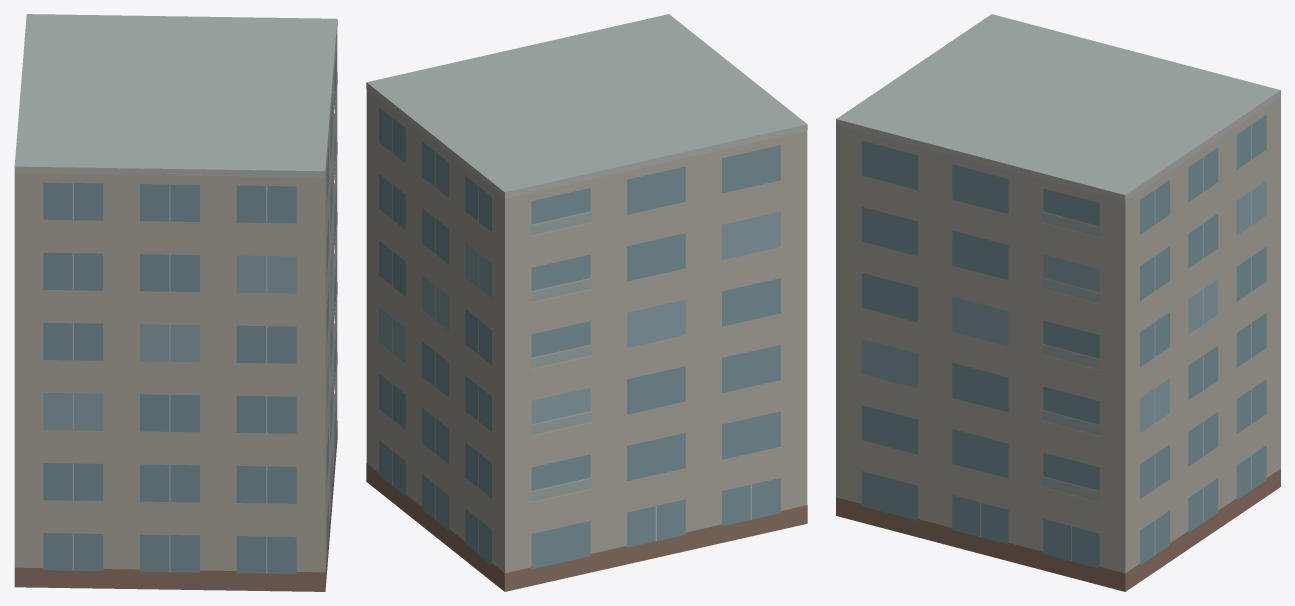
The model's file is survey-upis-32784387.glb.
3 renders of one model, left to right at view 1: azimuth 30°, elevation 25°; view 2: azimuth 150°, elevation 25°; view 3: azimuth 270°, elevation 25°, orthographic. The views are drawn at different scales.
Visible parts, largest first — view 1: survey-upis-32784387.tmp; view 2: survey-upis-32784387.tmp; view 3: survey-upis-32784387.tmp.
Part boxes in pixels (x1,y1,x2,y2): survey-upis-32784387.tmp: [14, 14, 337, 591]; survey-upis-32784387.tmp: [366, 14, 807, 591]; survey-upis-32784387.tmp: [836, 14, 1280, 591].
Size of the model in its own units: 15.38 by 15.7 by 15.96.
